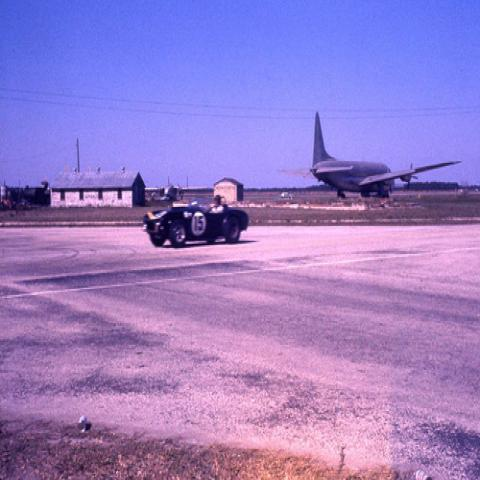car: (141, 206, 249, 248)
